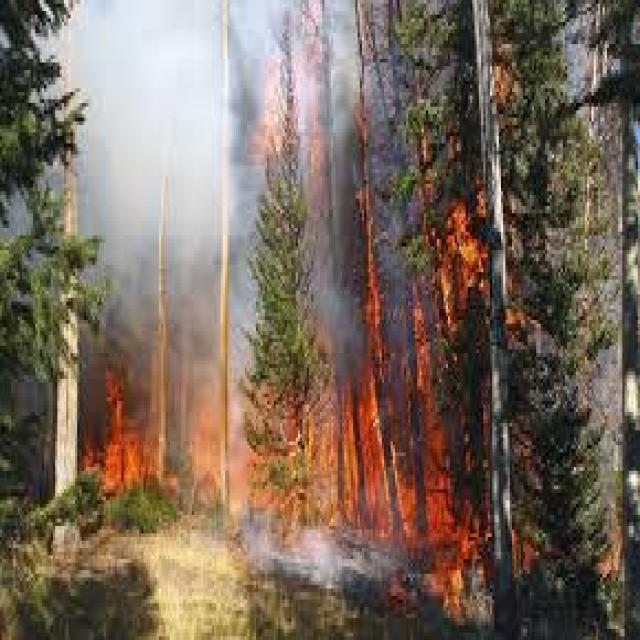Fire: (341, 72, 404, 385), (322, 388, 412, 550), (428, 158, 496, 322), (431, 423, 494, 580), (100, 370, 162, 495)
Smoke: (59, 17, 202, 300), (179, 180, 334, 340), (209, 0, 338, 164)
